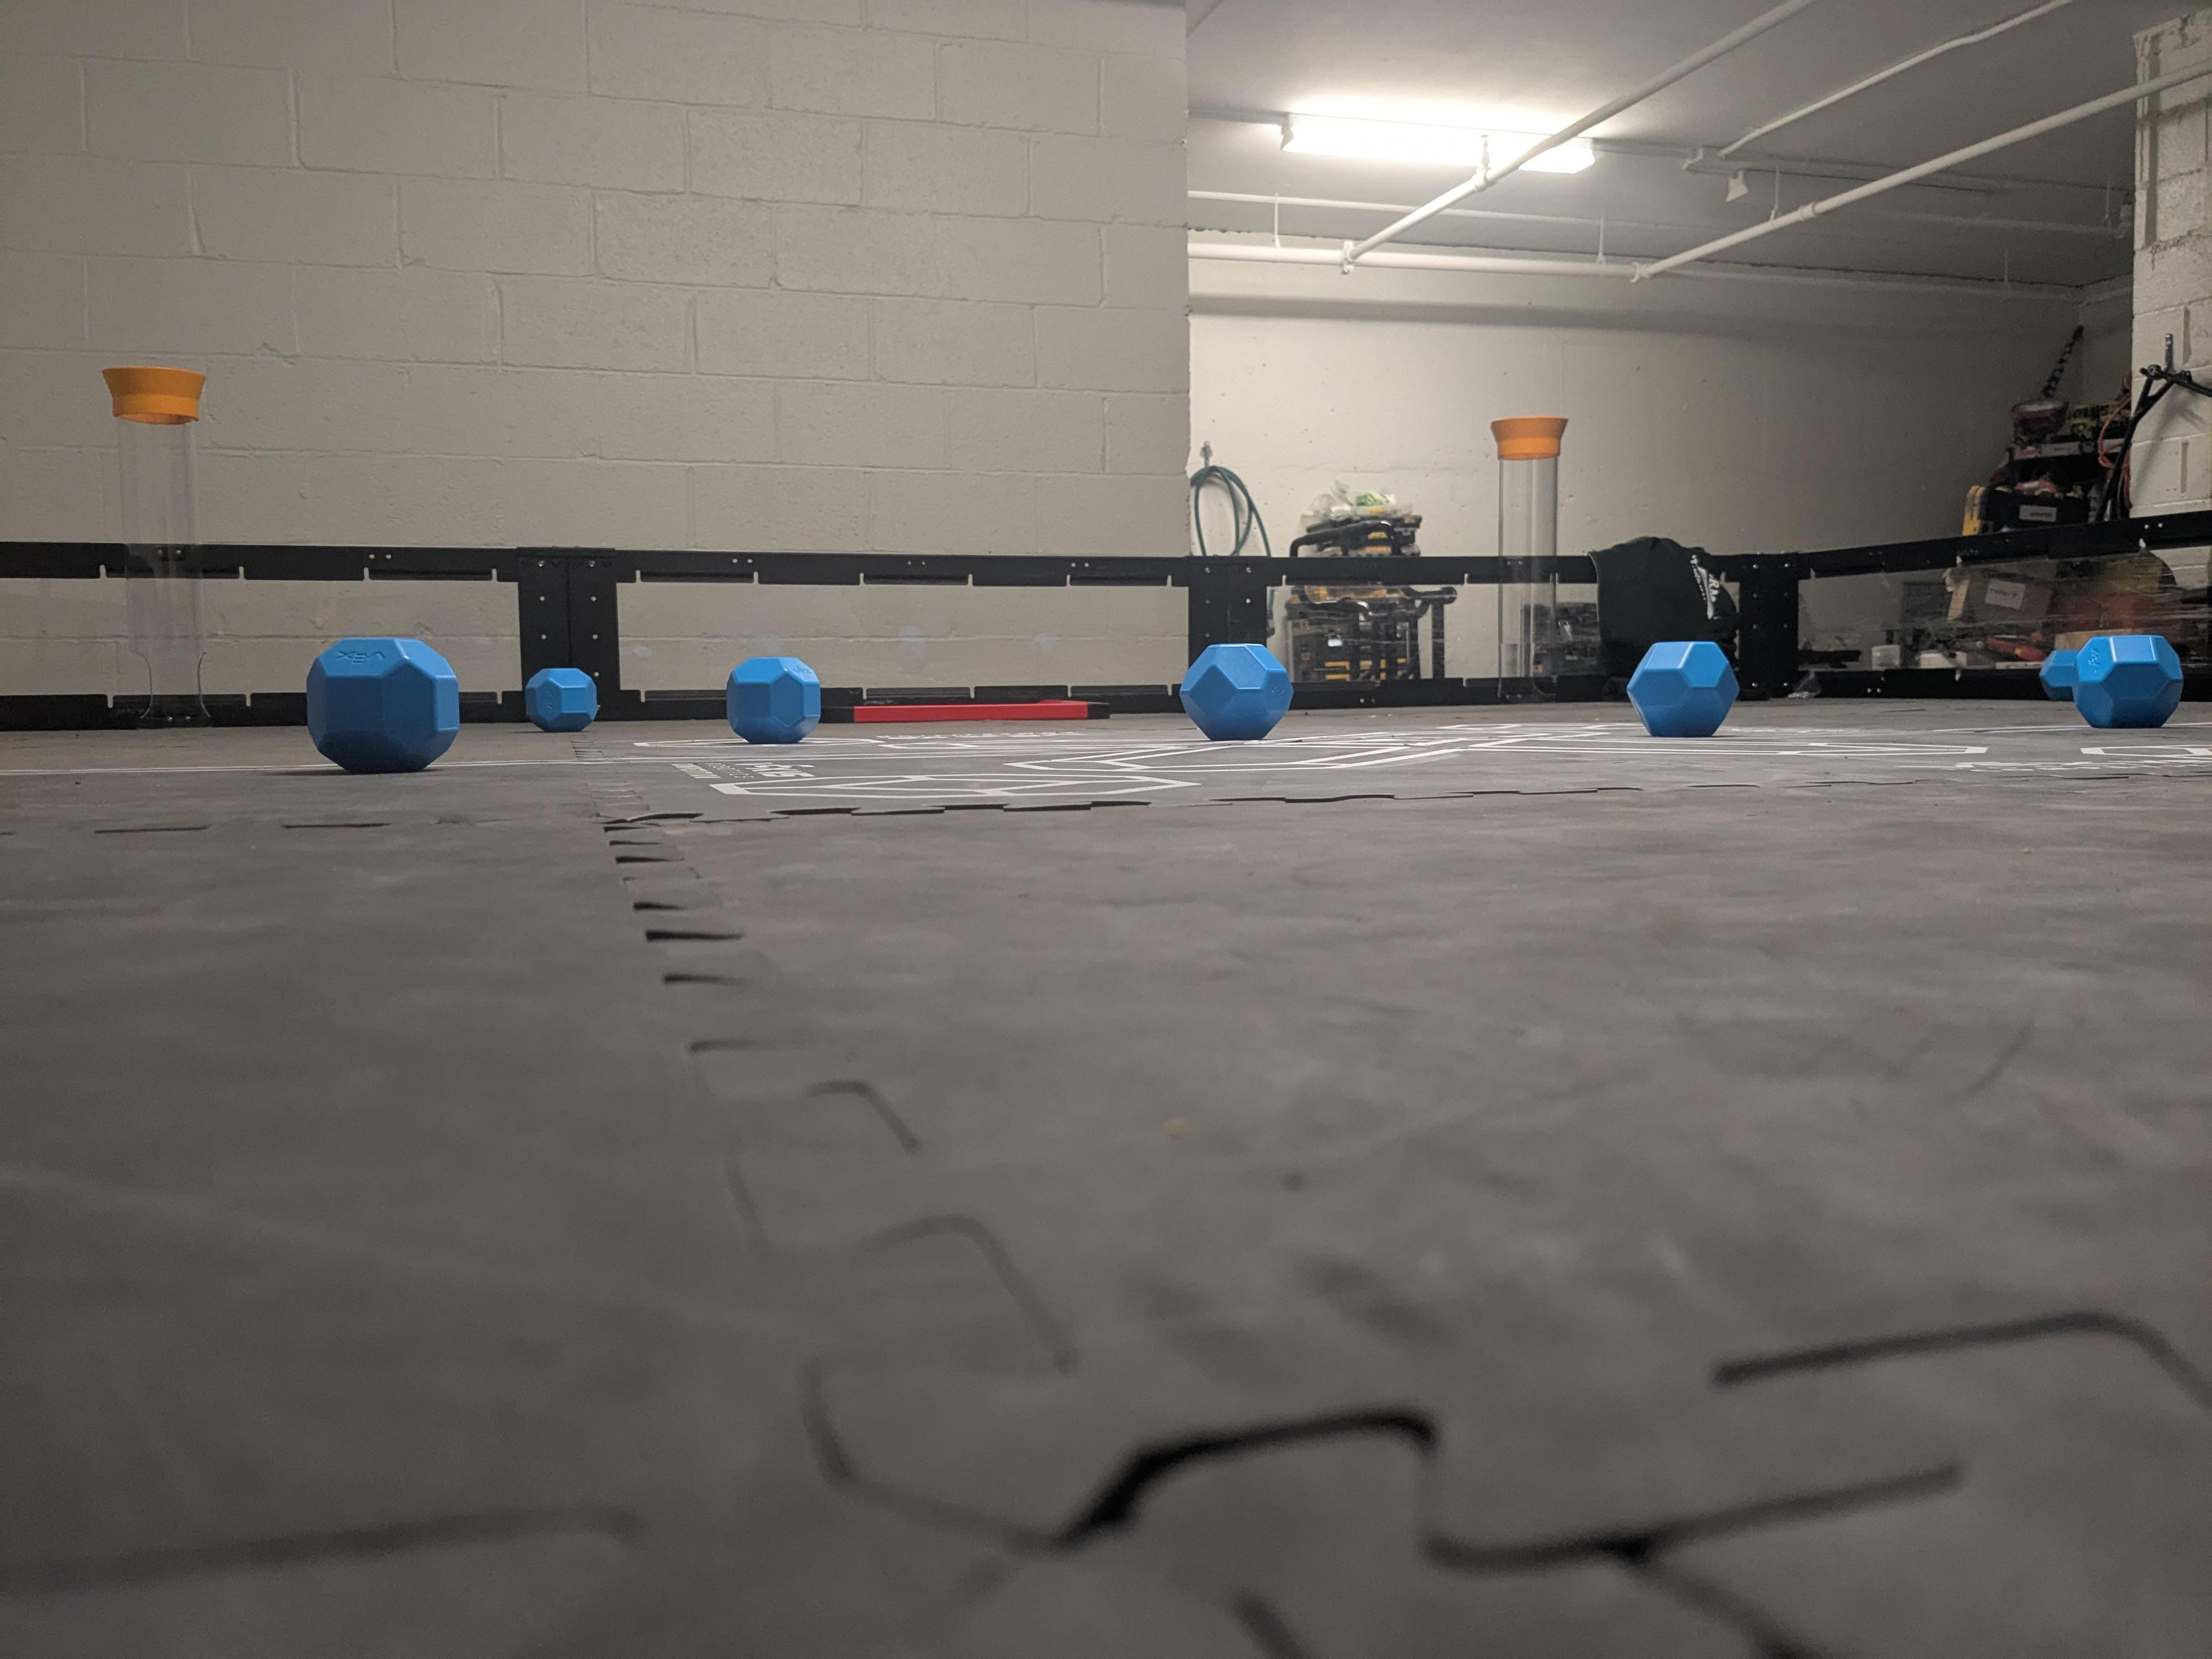Vex-Pieces-BLUE: (307, 638, 460, 772), (2041, 634, 2181, 723), (1181, 645, 1296, 739), (1630, 640, 1738, 734), (728, 659, 822, 741), (524, 671, 597, 730)
